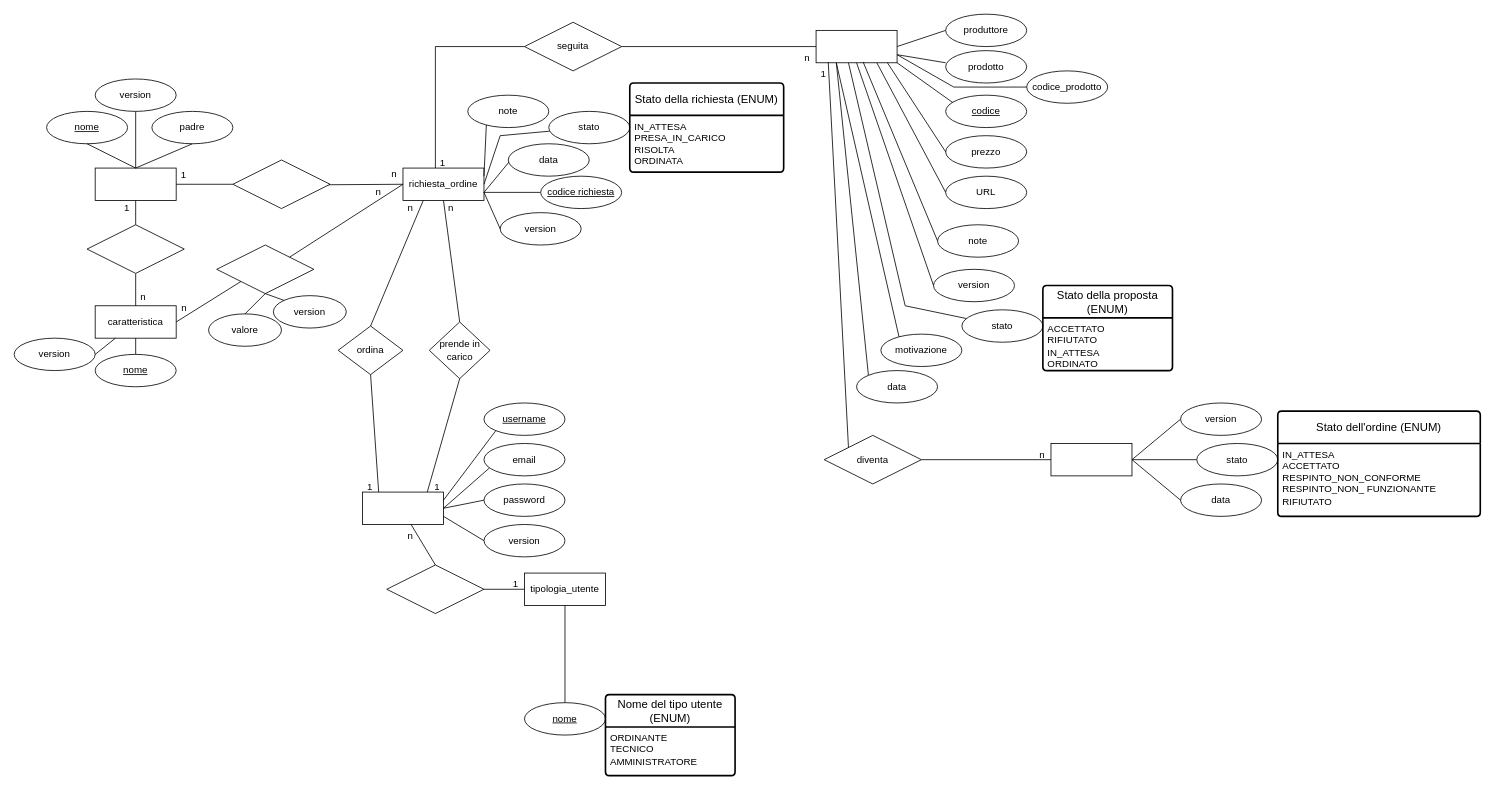
Some shapes in this 1495 by 791 pixel diagram are drawn without their labels. The centre of each missing label's shape, as x and y in pixels:
"categoria" goes at point (135, 183).
"compone" goes at point (265, 269).
"definisce" goes at point (135, 248).
"fa parte" goes at point (281, 184).
"ha" goes at point (435, 589).
"ordine" goes at point (1091, 459).
"proposta_acquisto" goes at point (856, 46).
"utente" goes at point (402, 507).
